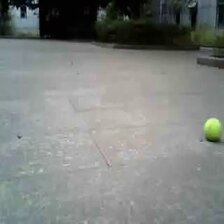tennis: (204, 119, 221, 142)
